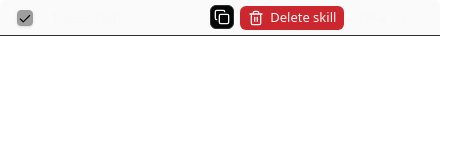
Test: InstalledListHeader layout tiers › names the action in a tooltip once Copy shrinks to an icon in the narrow header
This screenshot has width=457, height=160.
Hover over the button named "Copy selected skills to agents": (222, 16) [210,4,234,28]
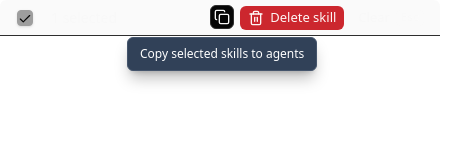
Check: the tooltip reads "Copy selected skills to agents", box [140,45,304,62]
